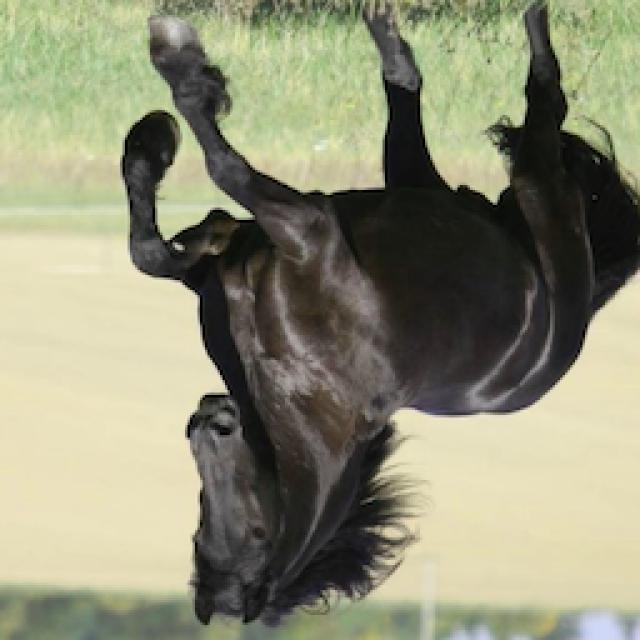Horse: (112, 2, 640, 632)
